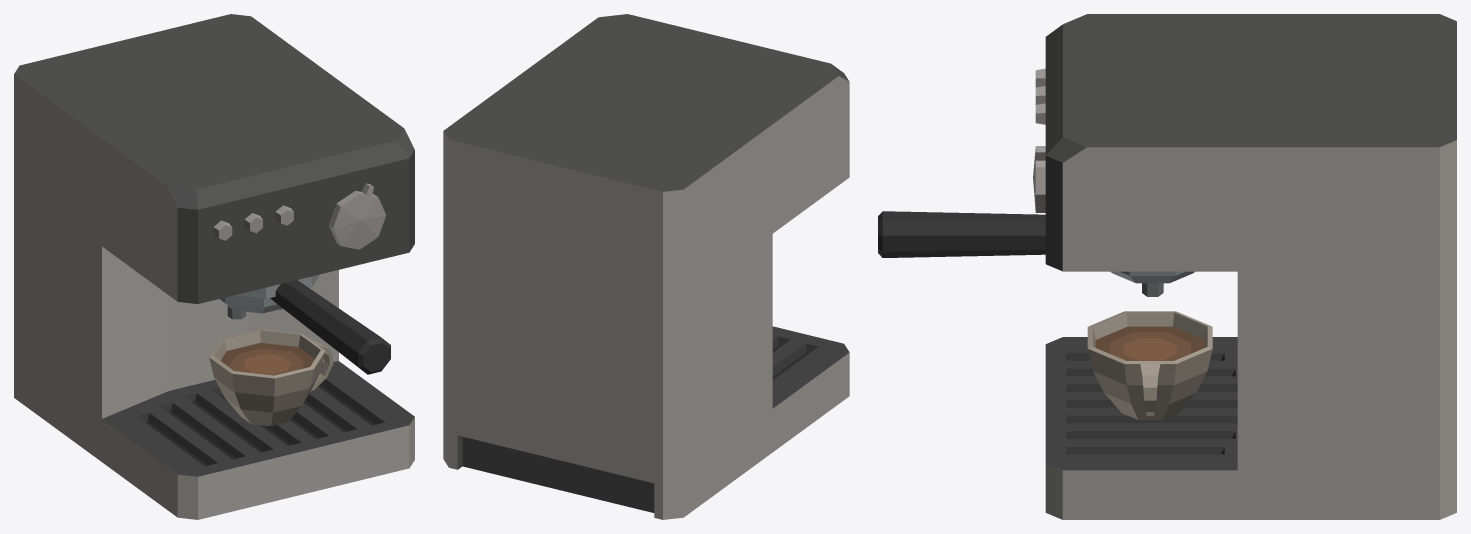
The model's file is SM_Props_Interior_Shop_Restaurant_CoffeeMachine.fbx.
3 renders of one model, left to right at view 1: azimuth 30°, elevation 25°; view 2: azimuth 150°, elevation 25°; view 3: azimuth 270°, elevation 25°, orthographic. The views are drawn at different scales.
Visible parts, largest first — view 1: SM_Props_Interior_Shop_Restaurant_CoffeeMachine; view 2: SM_Props_Interior_Shop_Restaurant_CoffeeMachine; view 3: SM_Props_Interior_Shop_Restaurant_CoffeeMachine.
Boxes of the visible parts, x1=… form: SM_Props_Interior_Shop_Restaurant_CoffeeMachine: x1=14, y1=14, x2=414, y2=519; SM_Props_Interior_Shop_Restaurant_CoffeeMachine: x1=443, y1=14, x2=849, y2=519; SM_Props_Interior_Shop_Restaurant_CoffeeMachine: x1=878, y1=14, x2=1456, y2=519.
Bounding box in the file's own units: 23 × 30 × 42.23.
